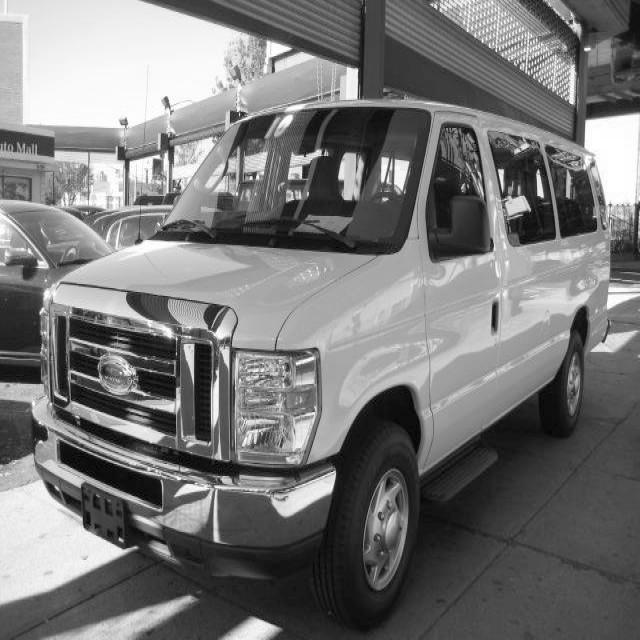car: (29, 96, 612, 629)
